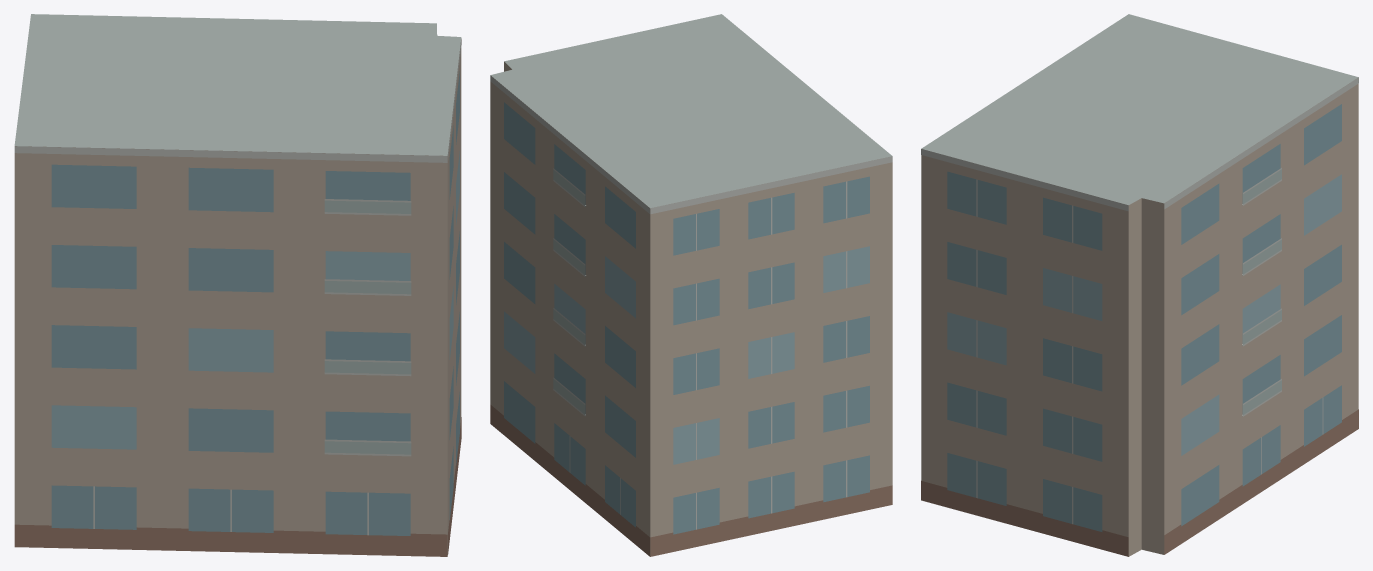
Rendered from survey-upis-32928774.glb.
The picture shows the model from 3 angles, left to right: view 1: azimuth 30°, elevation 25°; view 2: azimuth 150°, elevation 25°; view 3: azimuth 270°, elevation 25°; orthographic projection. The views are drawn at different scales.
Parts seen in each view (by area): view 1: survey-upis-32928774.tmp; view 2: survey-upis-32928774.tmp; view 3: survey-upis-32928774.tmp.
Boxes of the visible parts, x1=… form: survey-upis-32928774.tmp: x1=14, y1=14, x2=461, y2=556; survey-upis-32928774.tmp: x1=490, y1=14, x2=892, y2=556; survey-upis-32928774.tmp: x1=921, y1=14, x2=1358, y2=556.
Size of the model in its own units: 16.22 by 13.9 by 15.69.
